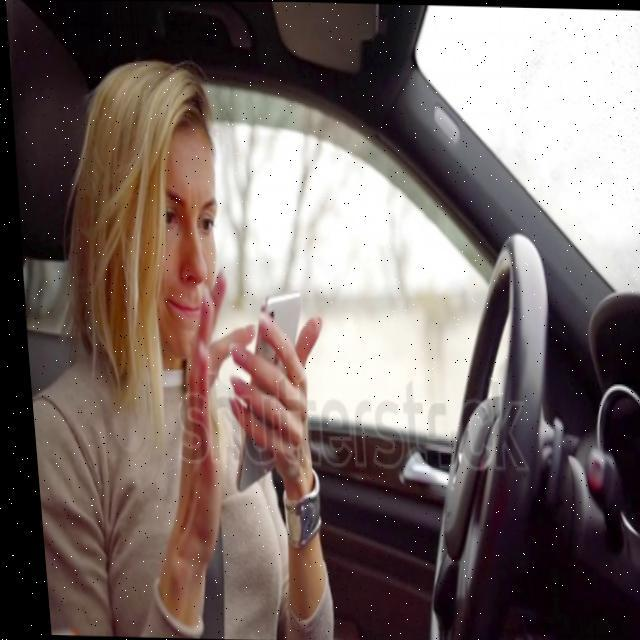PhoneCall: (215, 289, 308, 492)
